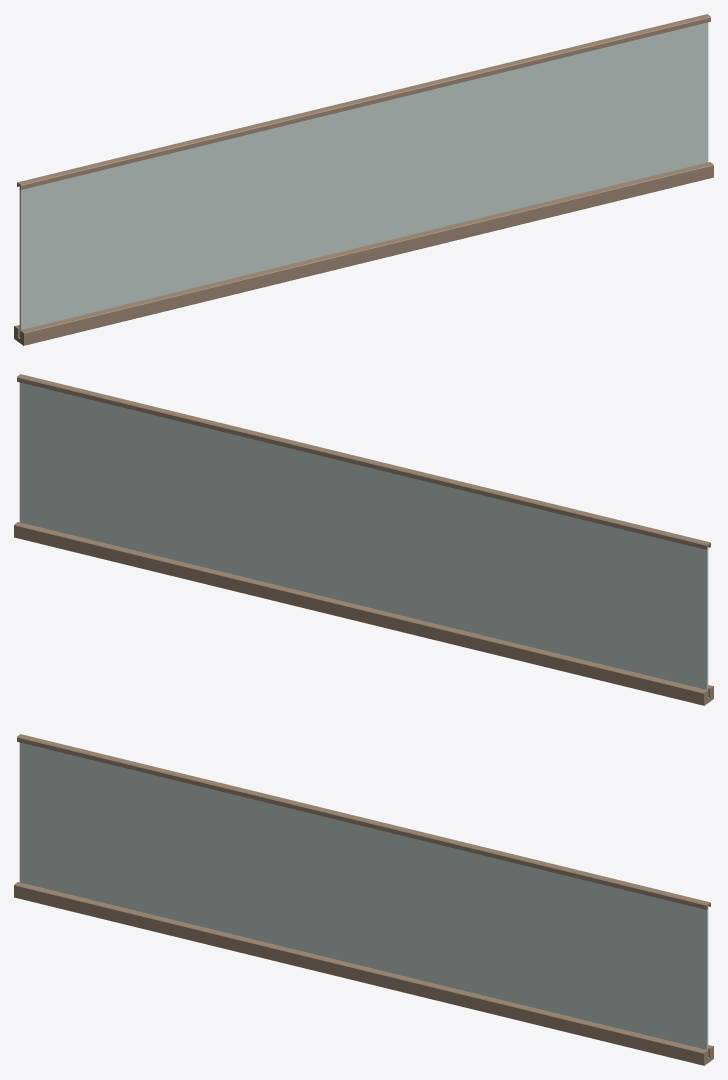
Rendered from gc-glassline-500-quartz-1019.glb.
The picture shows the model from 3 angles, top to bottom: view 1: azimuth 30°, elevation 25°; view 2: azimuth 150°, elevation 25°; view 3: azimuth 330°, elevation 25°; orthographic projection.
Parts seen in each view (by area): view 1: verre, structure; view 2: verre, structure; view 3: verre, structure.
Part boxes in pixels (x1,y1,x2,y2): verre: (19,22,708,336); structure: (14,14,713,345); verre: (19,382,708,696); structure: (14,374,713,705); verre: (19,742,708,1056); structure: (14,734,713,1065).
Bounding box in the file's own units: 5 × 1.1 × 0.125.
